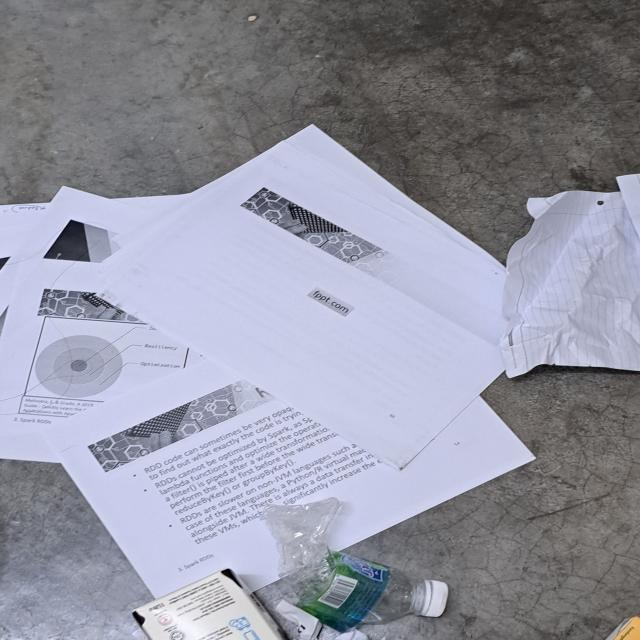drink carton: (131, 566, 288, 640)
paper: (0, 122, 535, 604), (500, 170, 640, 377)
plastic bottle: (264, 496, 426, 625)
plastic bottle cap: (424, 579, 452, 619)
